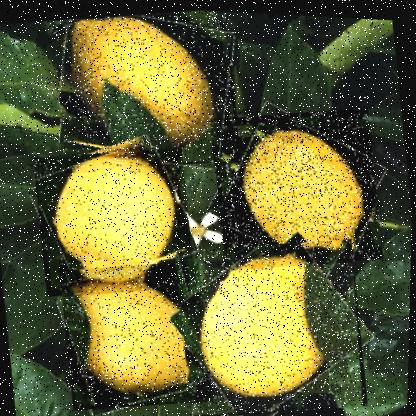lemon: (170, 227, 372, 415), (47, 2, 244, 180), (206, 97, 385, 274), (29, 139, 198, 303), (56, 253, 216, 416)
